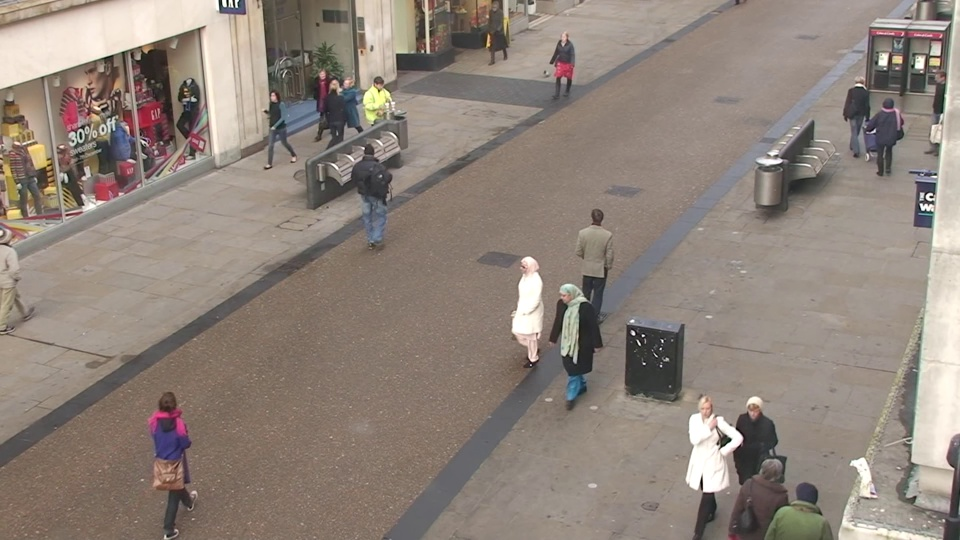pedestrian: (142, 380, 209, 540), (722, 385, 781, 540), (674, 385, 731, 540), (547, 277, 591, 416), (736, 443, 799, 540), (509, 249, 551, 381), (770, 465, 836, 540), (578, 203, 616, 323), (863, 95, 904, 188), (355, 140, 391, 242), (838, 72, 875, 158), (261, 86, 294, 172), (321, 76, 352, 160), (365, 74, 396, 157), (338, 72, 368, 155), (309, 65, 339, 145), (553, 29, 577, 100), (486, 1, 509, 64)
